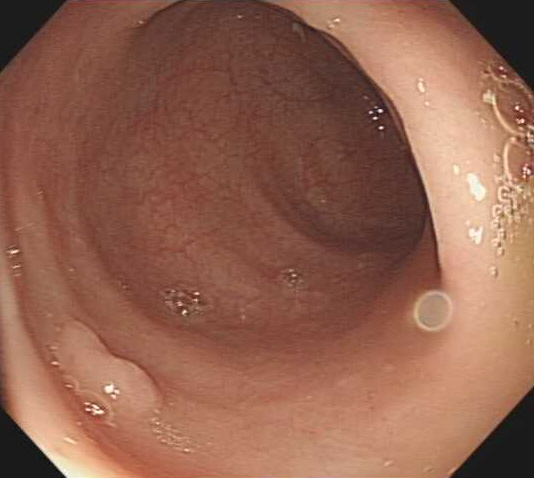adenoma: (55, 318, 164, 423)
